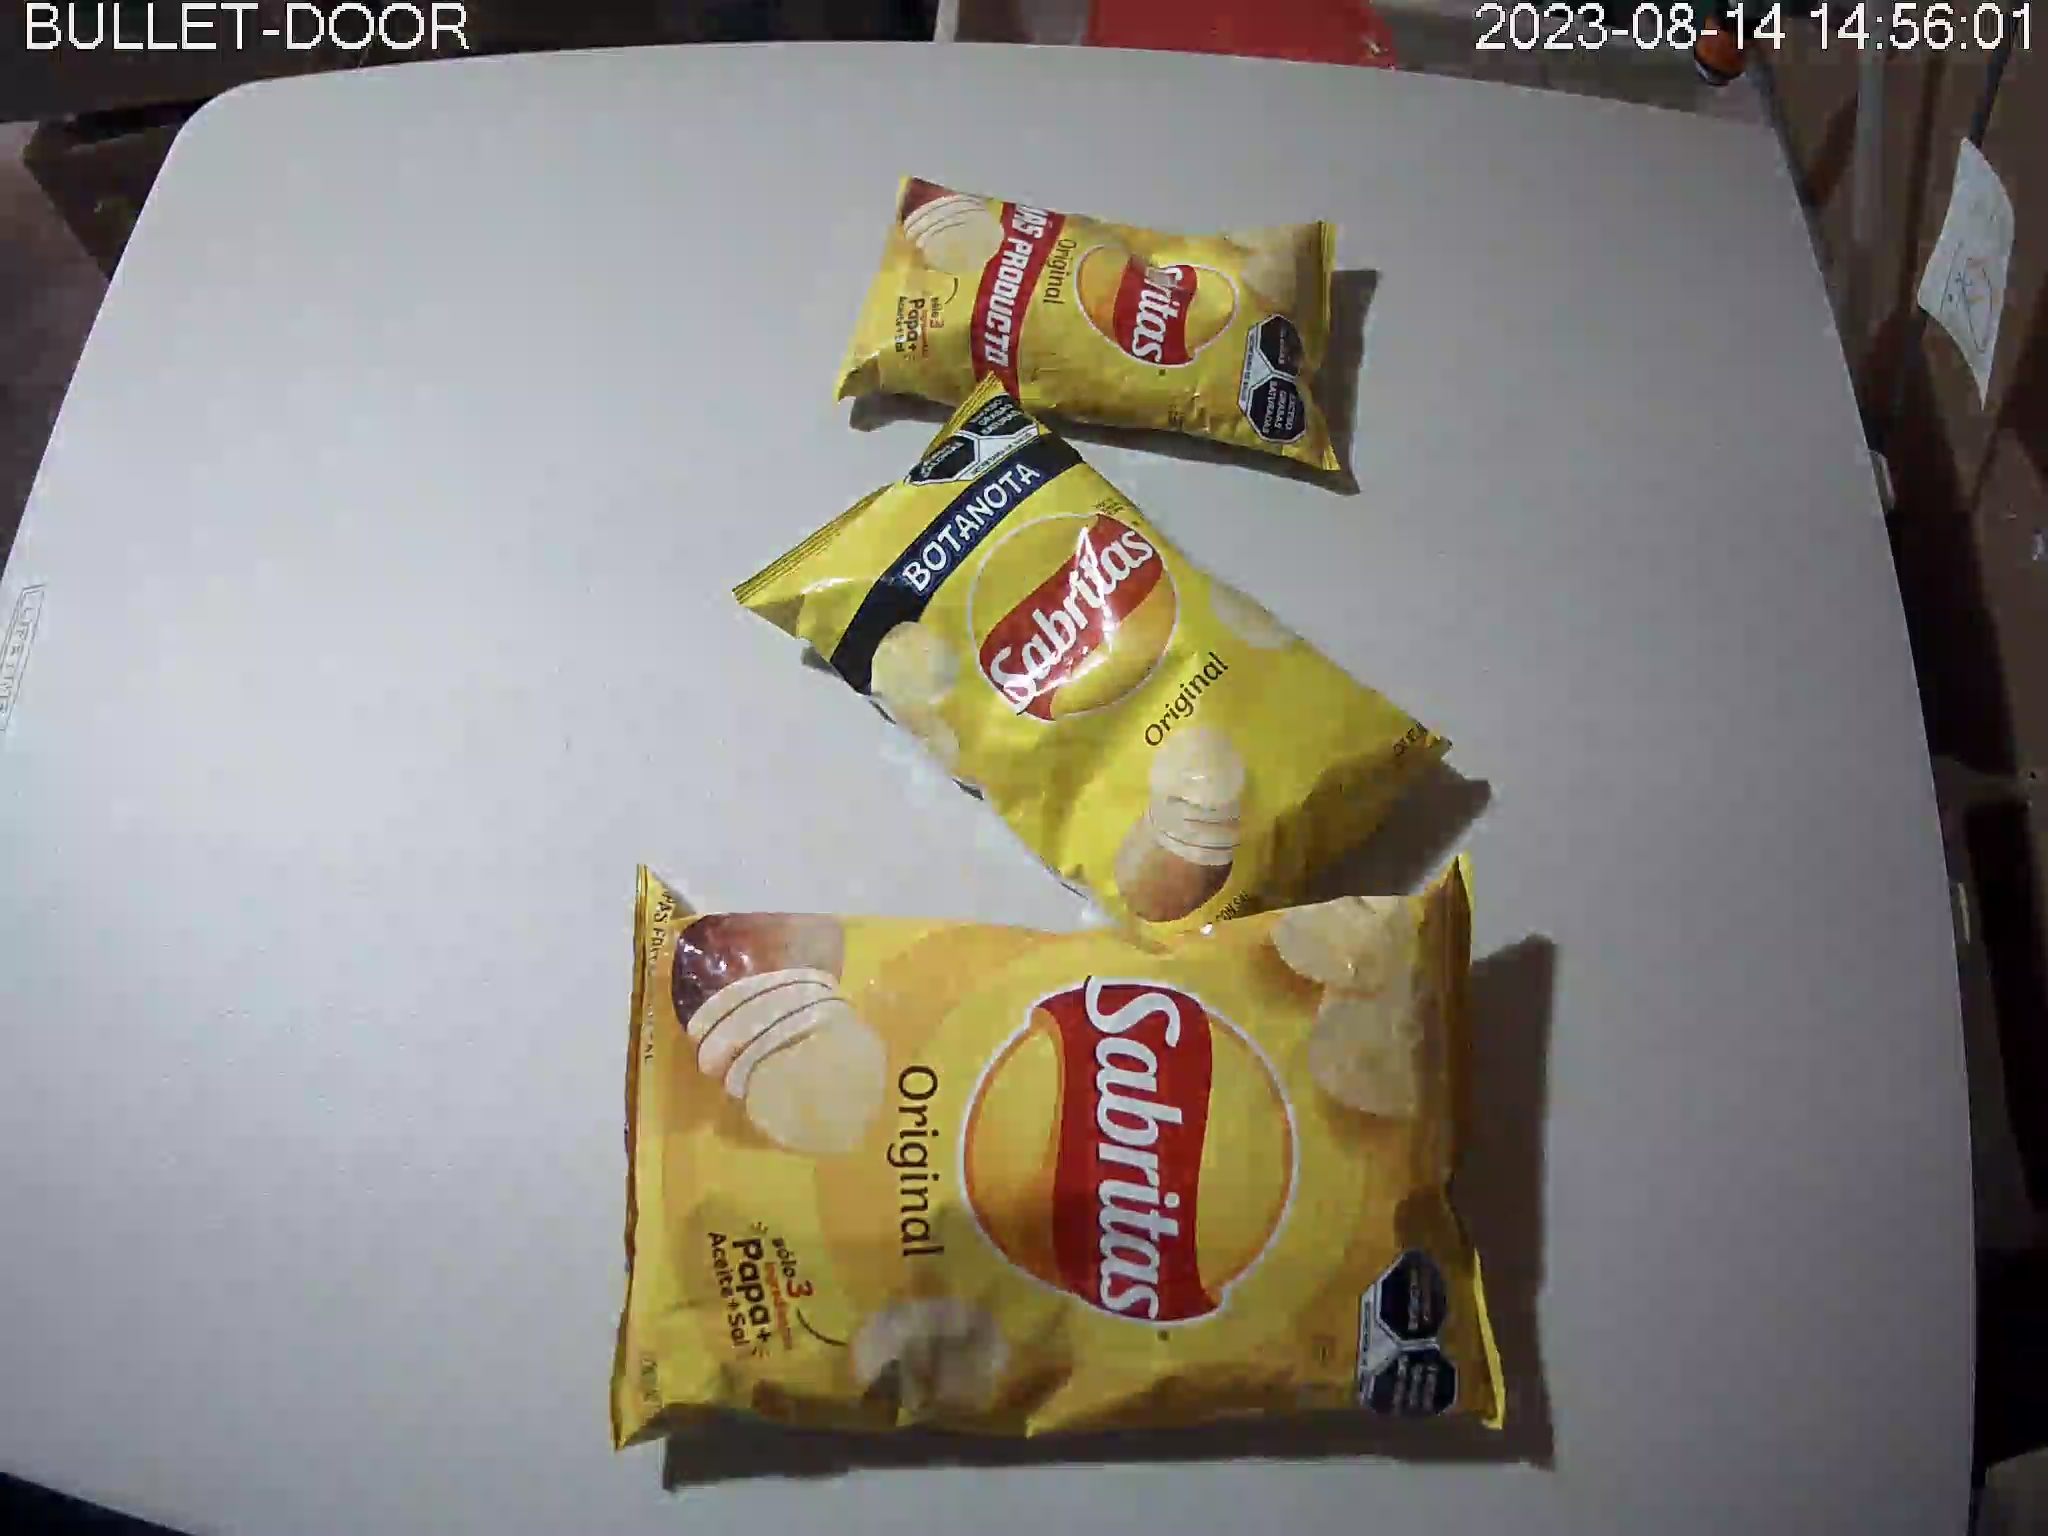Sabritas_160_F: (605, 854, 1513, 1454)
Sabritas_45_F: (830, 173, 1345, 481)
Sabritas_64_F: (732, 369, 1455, 1002)
